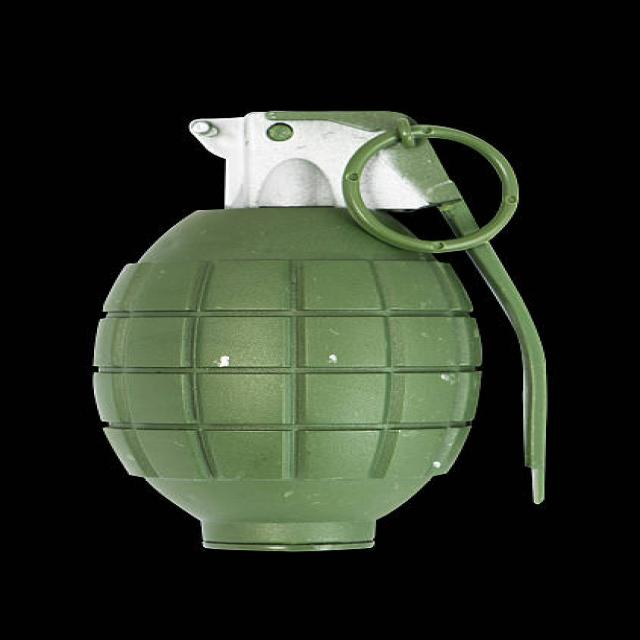grenade: (71, 90, 568, 566)
